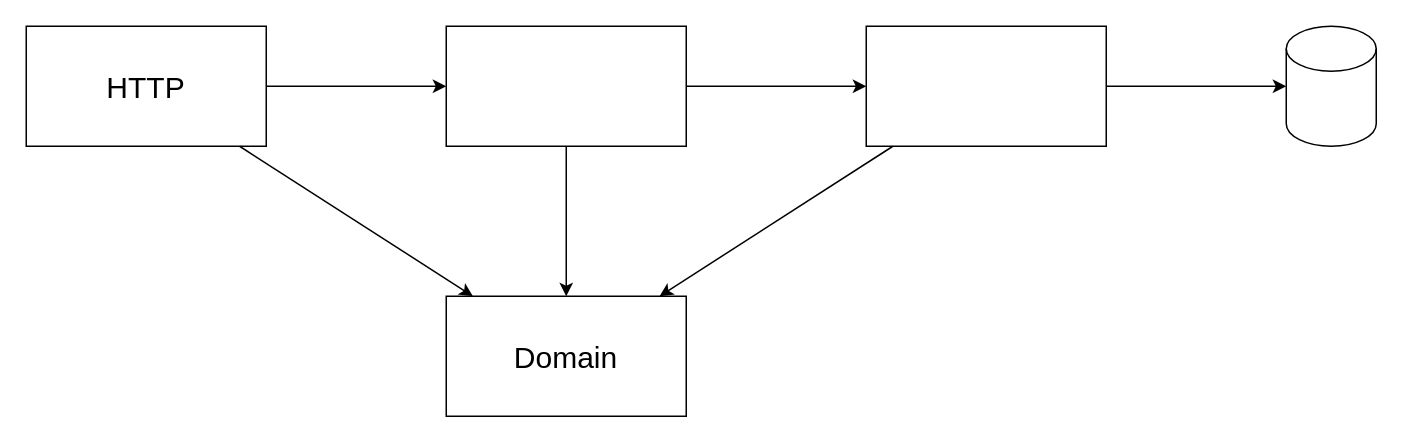
This 1403x443 diagram has some shape labels left out. The centre of each missing label's shape, as x and y in pixels:
"Repository" belongs at (x=985, y=85).
"Service" belongs at (x=565, y=85).
